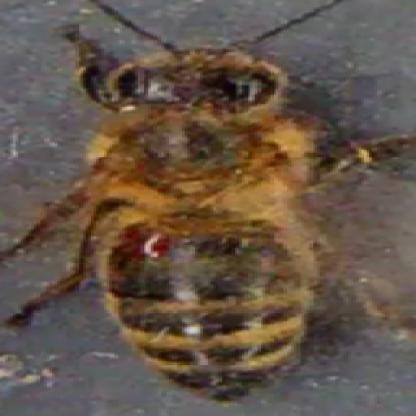bee: (77, 40, 356, 401)
vaoora: (119, 228, 178, 266)
